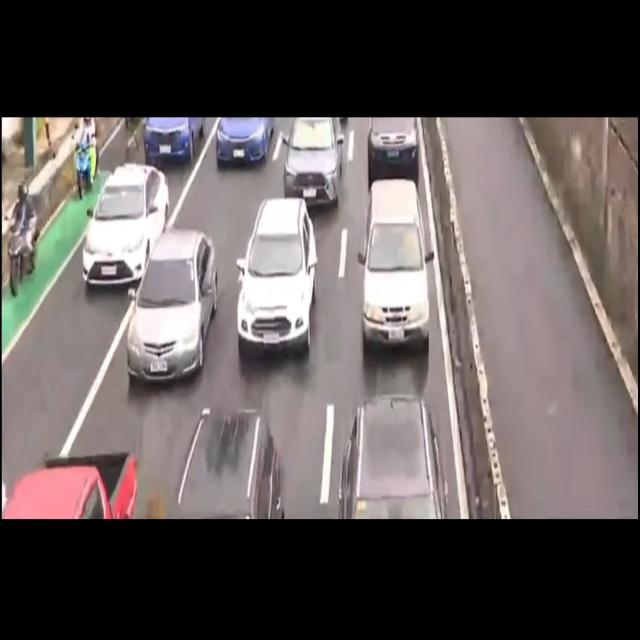Motorcycle: (6, 179, 42, 298), (73, 121, 100, 192)
SUV: (332, 394, 450, 522), (358, 175, 432, 369), (229, 194, 316, 359), (172, 402, 286, 517)
Sedan: (126, 231, 217, 387), (84, 166, 166, 287), (282, 118, 343, 215)
